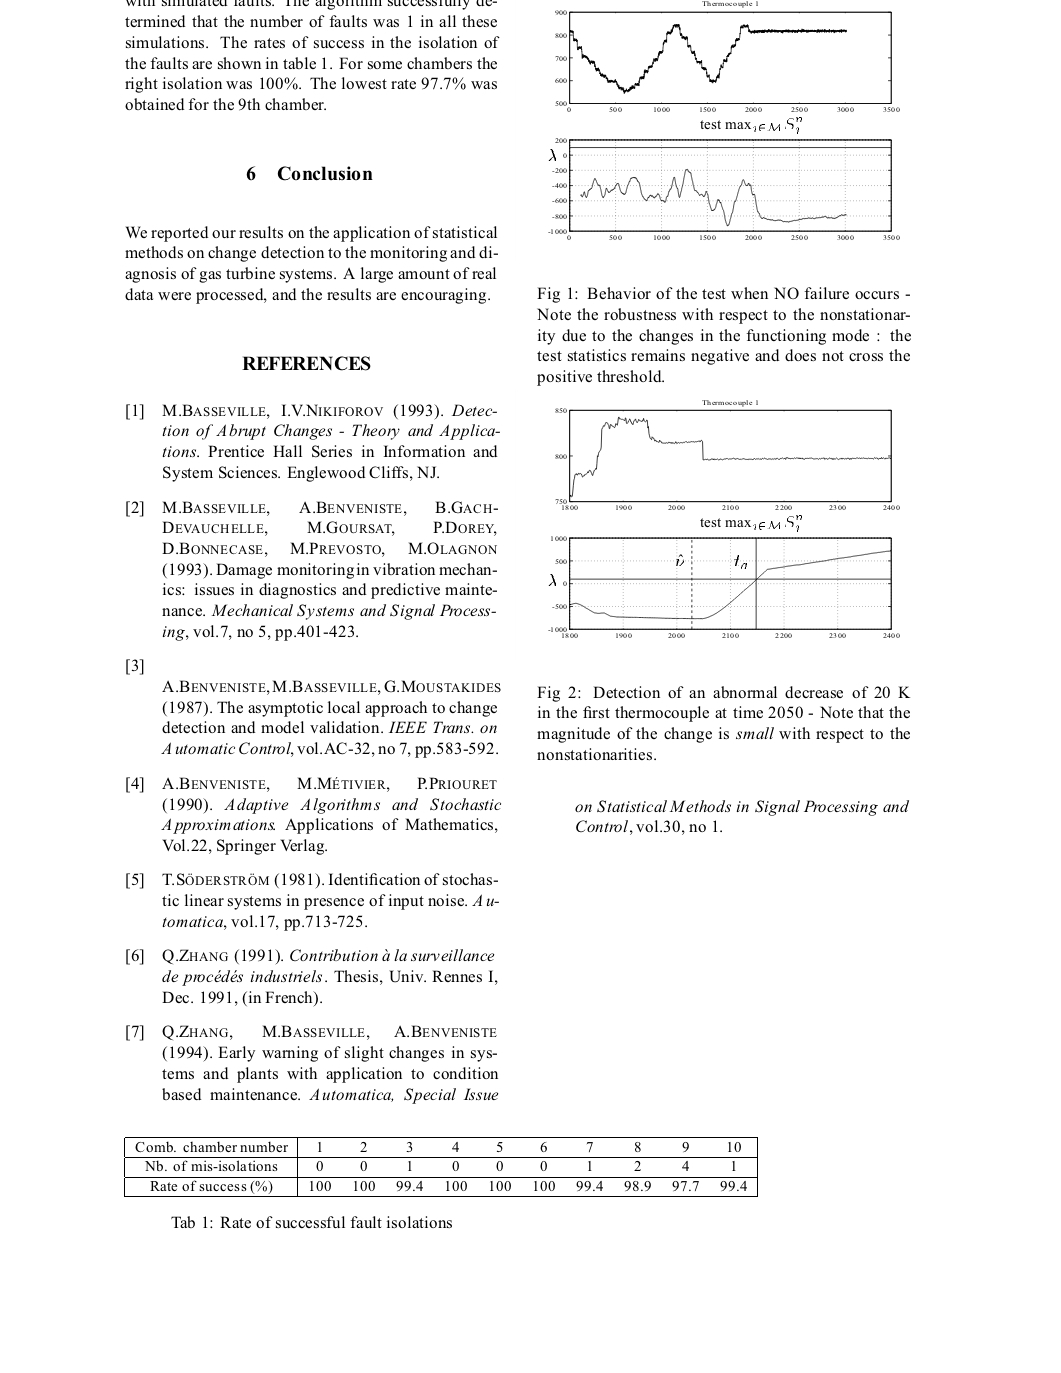Table: (124, 1135, 757, 1197)
figure: (555, 399, 899, 510), (555, 6, 899, 111), (548, 137, 899, 240), (548, 535, 899, 637)
